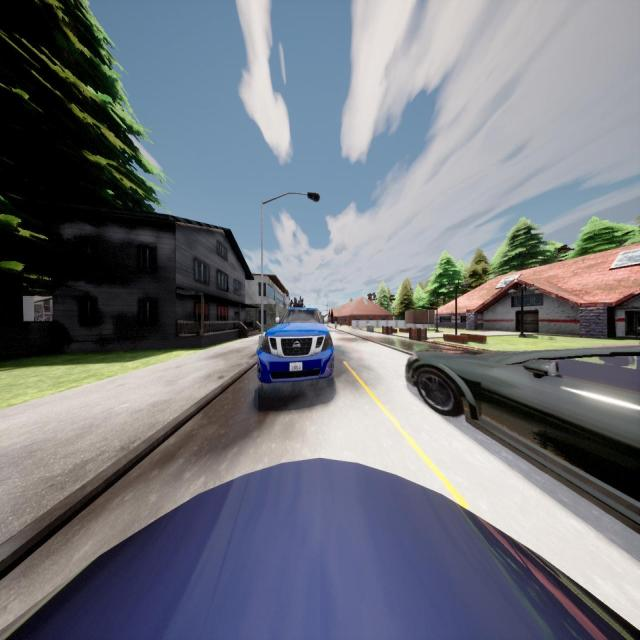Vehicle: (0, 461, 640, 640), (405, 348, 640, 525), (257, 307, 334, 383)
